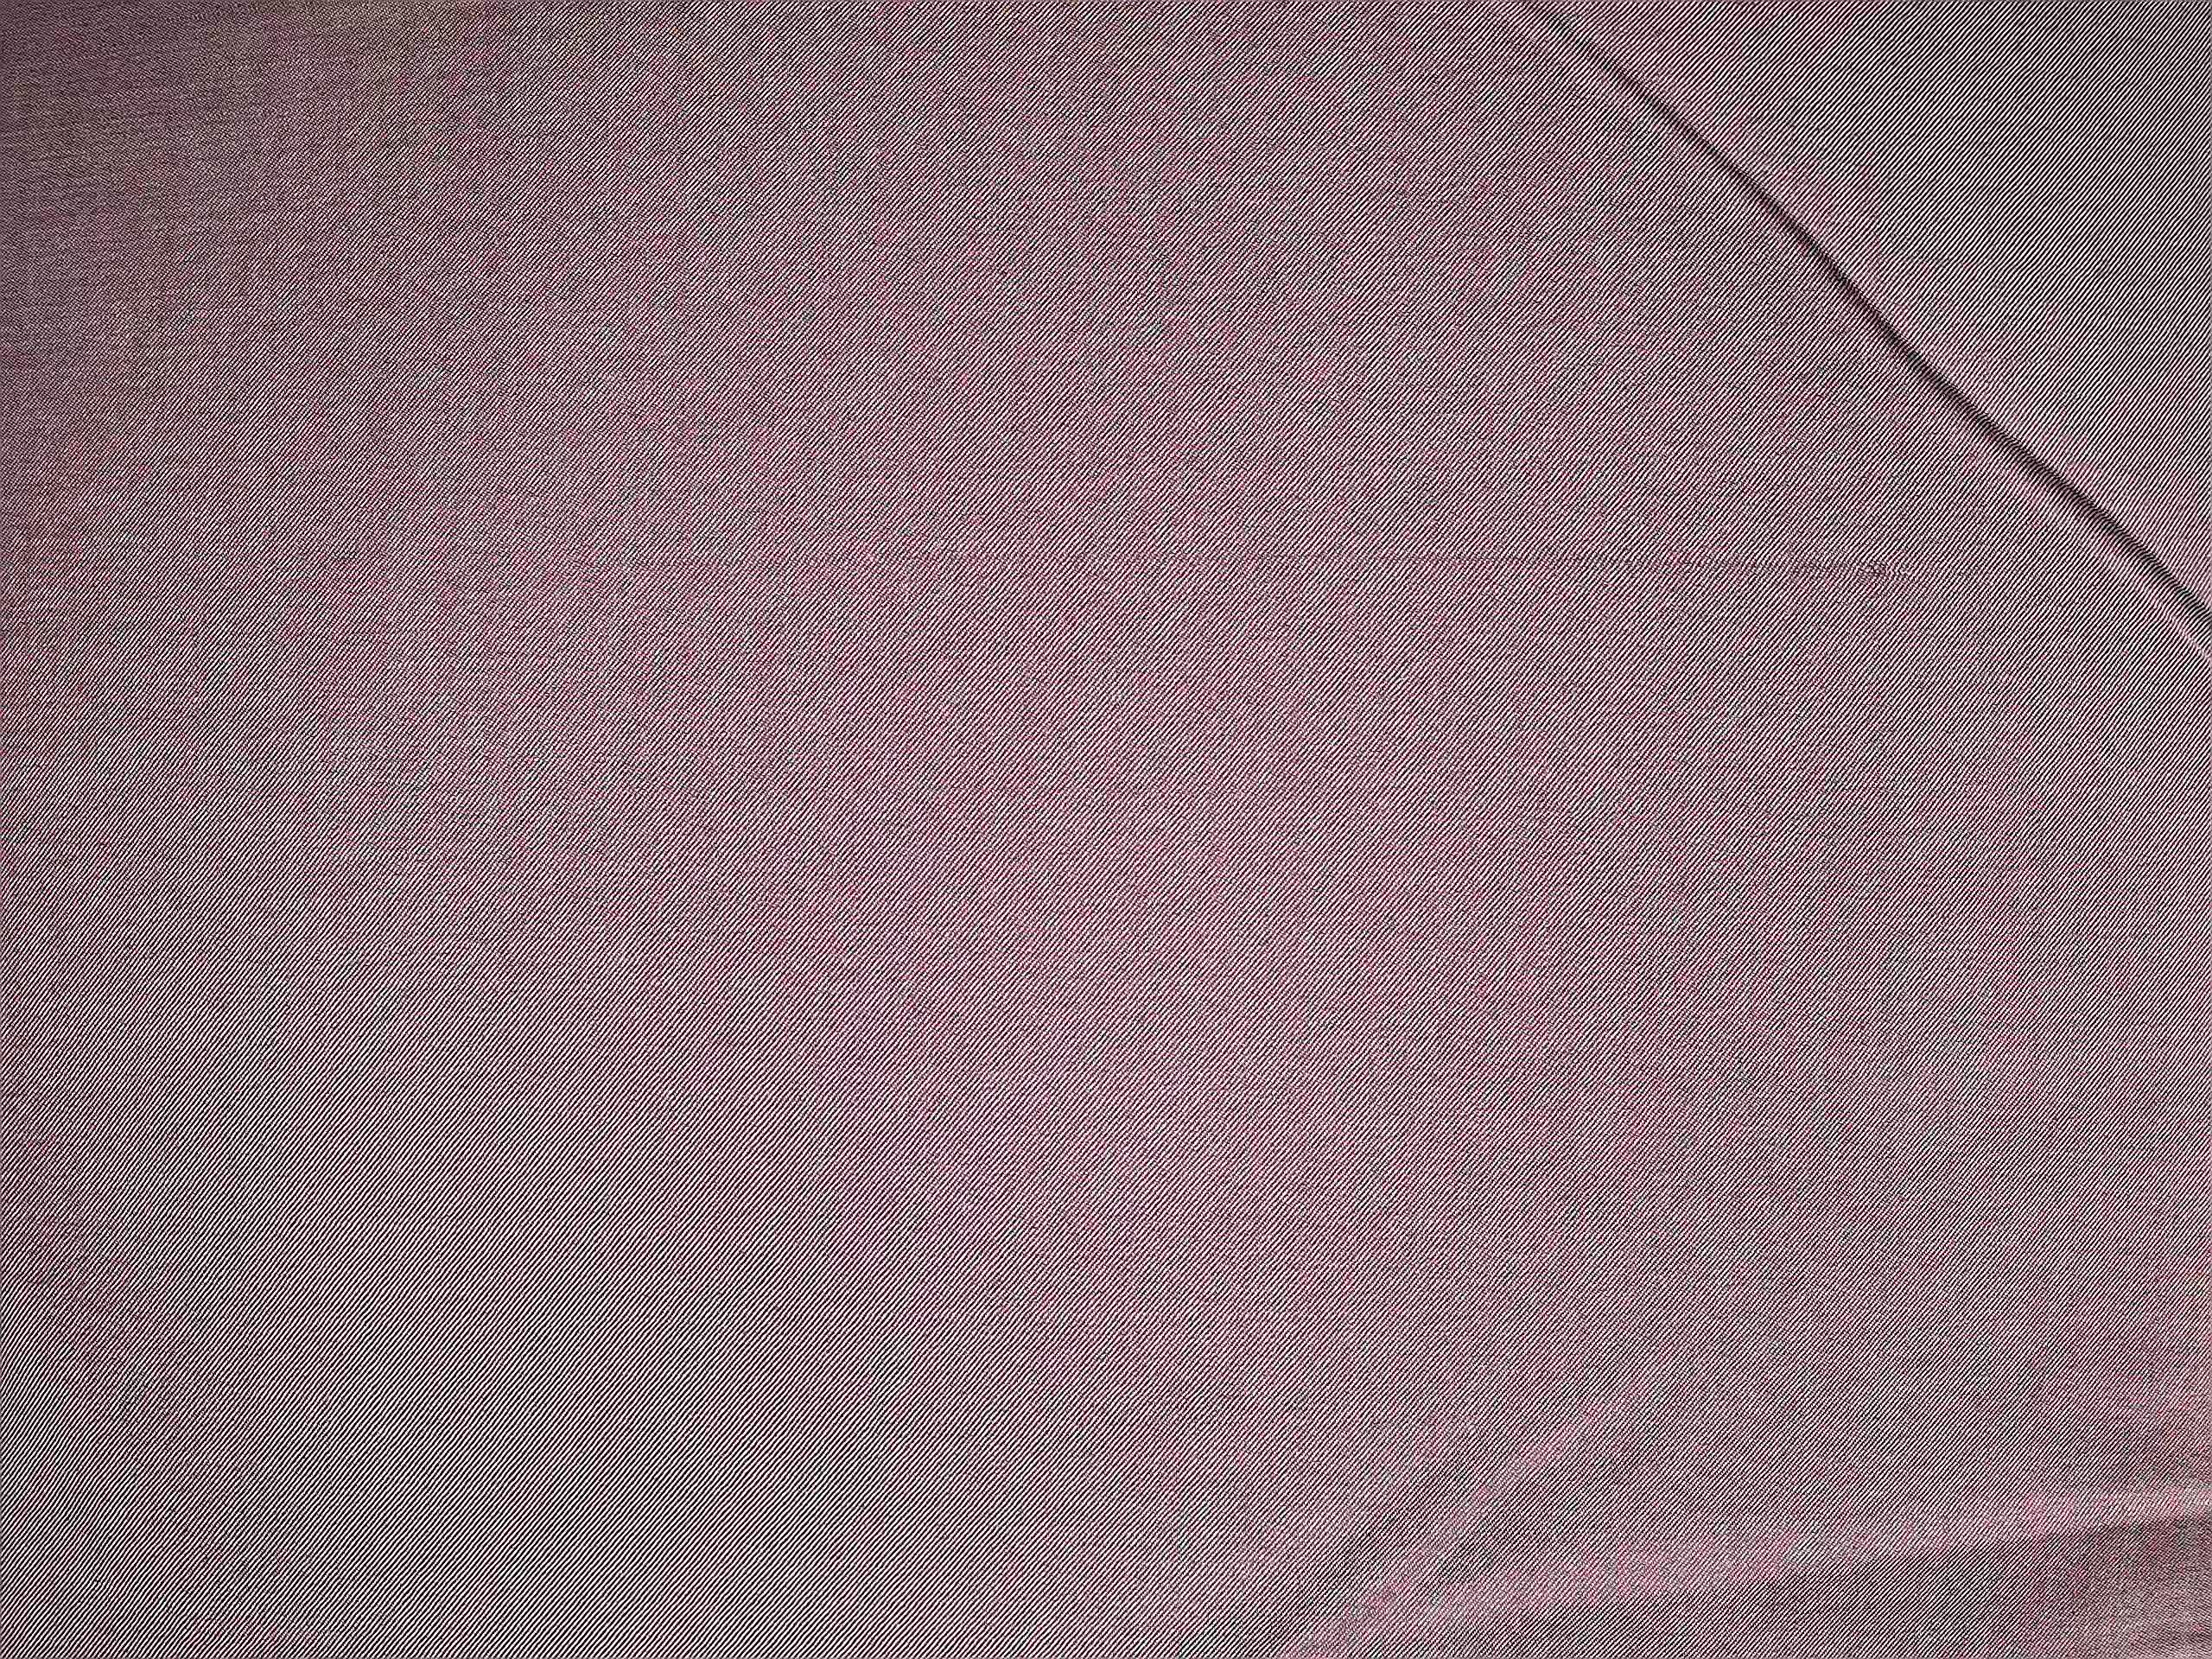thin-spinning: (691, 532, 1965, 608)
